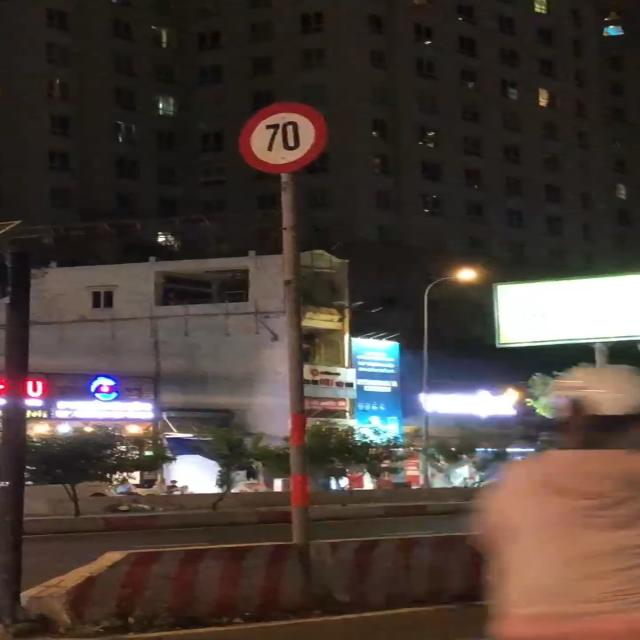Bien bao toc do toi da cho phep: (227, 99, 357, 175)
